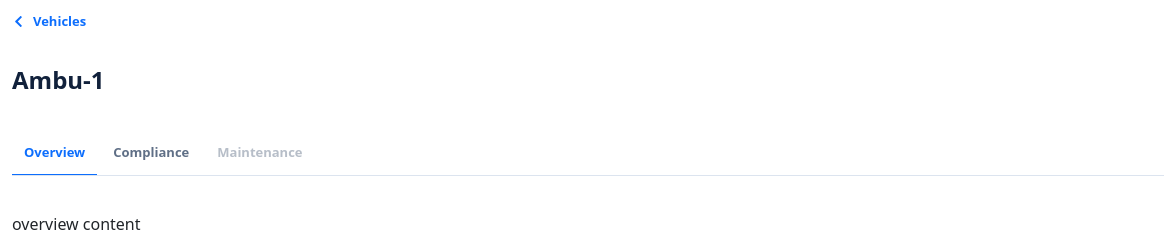
EntityWorkspace tabs › puts the active tab in the URL so the view is shareable
Click the tab "Compliance" at (151, 153), box left=101, top=131, right=201, bottom=176
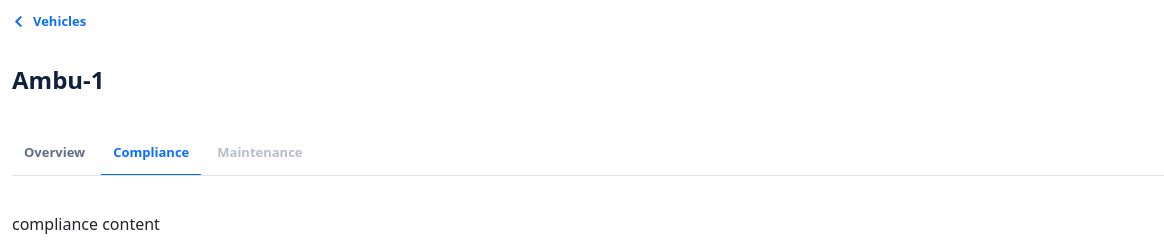
Now the text with test id "tab-content" reads "compliance content", box left=12, top=213, right=160, bottom=235
